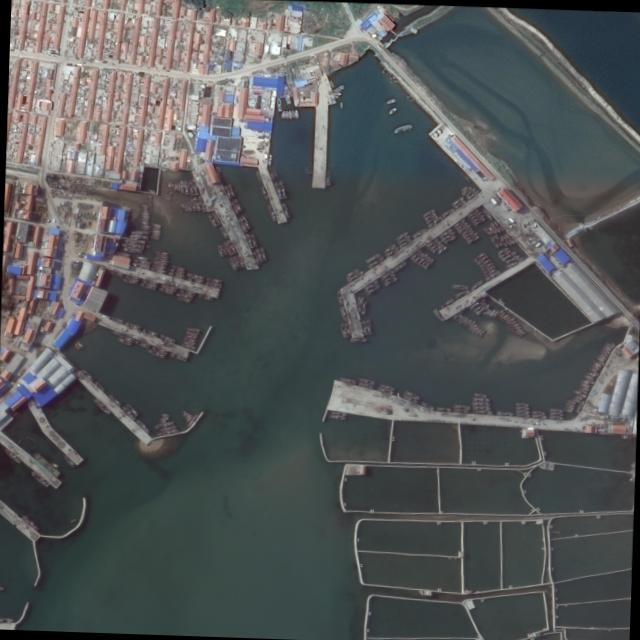ship: (30, 449, 61, 476), (29, 468, 50, 486), (92, 396, 111, 414), (21, 513, 40, 529), (3, 447, 22, 462), (505, 255, 525, 268), (134, 417, 151, 432), (366, 254, 384, 267), (121, 404, 136, 419), (426, 214, 443, 227), (393, 122, 413, 133), (124, 401, 139, 415), (468, 297, 485, 309), (347, 269, 364, 281), (344, 266, 361, 278), (266, 202, 277, 220), (62, 452, 76, 466), (384, 244, 399, 257), (475, 302, 490, 315), (501, 249, 517, 261), (147, 347, 166, 357), (196, 194, 207, 211), (484, 269, 501, 280), (432, 307, 445, 321), (403, 389, 421, 399), (412, 226, 427, 238), (440, 229, 455, 241), (365, 282, 380, 294), (392, 259, 407, 271), (273, 180, 283, 198), (505, 252, 520, 264), (156, 427, 178, 435), (365, 252, 381, 263), (169, 350, 186, 360), (158, 332, 175, 342), (81, 367, 94, 380), (185, 413, 198, 426), (108, 393, 122, 405), (206, 212, 218, 226), (472, 300, 486, 312), (363, 279, 378, 290), (150, 344, 168, 353), (190, 176, 199, 194), (278, 179, 287, 197), (121, 241, 144, 248), (244, 231, 254, 247), (154, 420, 174, 428), (237, 215, 247, 231), (280, 201, 290, 217), (481, 207, 494, 219), (472, 250, 485, 262), (227, 255, 238, 269), (226, 238, 237, 252), (223, 240, 234, 254), (457, 222, 471, 233), (452, 216, 466, 227), (438, 226, 452, 237), (397, 233, 411, 244), (425, 236, 439, 247), (440, 297, 454, 308), (380, 268, 394, 279), (408, 248, 422, 259), (210, 210, 221, 224), (160, 282, 177, 291), (133, 338, 150, 347), (124, 320, 141, 329), (185, 271, 204, 279), (420, 400, 435, 410), (192, 195, 202, 210), (259, 184, 269, 199), (339, 321, 348, 337), (141, 327, 157, 336), (357, 376, 375, 384), (402, 393, 418, 402), (454, 288, 470, 297), (416, 252, 428, 264), (504, 231, 516, 243), (451, 195, 464, 206), (466, 188, 479, 199), (431, 242, 444, 253), (470, 278, 483, 289), (218, 224, 229, 237), (475, 253, 488, 264), (235, 252, 245, 266), (441, 206, 455, 216), (394, 230, 408, 240), (398, 237, 412, 247), (384, 275, 398, 285), (132, 261, 149, 269), (117, 336, 132, 345), (119, 332, 134, 341), (339, 305, 348, 320), (335, 289, 344, 304), (461, 184, 473, 195), (492, 219, 504, 230), (489, 221, 501, 232), (489, 235, 500, 247), (501, 233, 512, 245), (575, 399, 585, 412), (455, 220, 468, 230), (425, 213, 438, 223), (422, 207, 435, 217), (428, 240, 441, 250), (383, 272, 396, 282), (383, 242, 396, 252), (233, 197, 243, 210), (480, 260, 493, 270), (498, 248, 511, 258), (467, 233, 480, 243), (168, 270, 184, 278), (134, 257, 150, 265), (357, 380, 373, 388), (377, 386, 393, 394), (255, 247, 264, 261), (338, 376, 356, 383), (471, 212, 485, 221), (483, 267, 497, 276), (223, 184, 232, 198), (226, 182, 235, 196), (423, 257, 434, 268), (124, 237, 144, 243), (150, 265, 165, 273), (153, 255, 168, 263), (464, 186, 476, 196), (454, 198, 466, 208), (444, 233, 456, 243), (412, 251, 424, 261), (493, 233, 503, 245), (465, 230, 477, 240), (204, 279, 221, 286), (176, 291, 193, 298), (139, 281, 156, 288), (232, 254, 241, 267), (466, 207, 479, 216), (469, 209, 482, 218), (473, 216, 486, 225), (188, 197, 197, 210), (482, 264, 495, 273), (241, 214, 250, 227), (230, 200, 239, 213), (123, 246, 142, 252), (188, 276, 204, 283), (252, 249, 260, 263), (249, 232, 257, 246), (179, 287, 195, 294), (344, 321, 352, 335), (142, 277, 158, 284), (365, 317, 372, 333), (94, 380, 105, 390), (420, 255, 430, 266), (424, 211, 436, 220), (497, 245, 509, 254), (478, 257, 490, 266), (462, 229, 474, 238), (461, 226, 473, 235), (159, 286, 174, 293), (123, 276, 138, 283), (180, 342, 195, 349), (185, 325, 200, 332), (379, 382, 394, 389), (361, 318, 368, 333), (187, 179, 194, 194), (178, 178, 185, 193), (259, 246, 267, 259), (111, 315, 124, 323), (328, 413, 345, 419), (330, 409, 347, 415), (159, 424, 176, 430), (453, 403, 470, 409), (498, 235, 508, 245), (219, 243, 228, 254), (436, 245, 447, 254), (198, 292, 212, 299), (116, 250, 130, 257), (109, 269, 123, 276), (151, 262, 165, 269), (276, 96, 283, 110), (206, 276, 222, 282), (216, 243, 224, 255), (435, 405, 451, 411), (254, 169, 262, 181), (130, 229, 149, 234), (473, 408, 492, 413), (153, 259, 166, 266), (129, 233, 147, 238), (177, 296, 192, 302), (472, 404, 490, 409), (472, 400, 490, 405), (472, 396, 490, 401), (183, 179, 189, 194), (466, 319, 476, 328), (357, 295, 363, 310), (496, 410, 513, 415), (170, 267, 184, 273), (172, 263, 184, 270), (125, 273, 139, 279), (184, 329, 198, 335), (361, 300, 367, 314), (548, 414, 564, 419), (482, 226, 492, 234), (452, 283, 468, 288), (135, 254, 148, 260), (156, 253, 169, 259), (155, 249, 168, 255), (182, 339, 195, 345), (183, 336, 196, 342), (184, 333, 197, 339), (185, 199, 192, 210), (453, 407, 468, 412), (471, 325, 480, 333), (458, 314, 466, 323), (332, 87, 341, 95), (487, 225, 497, 232), (325, 170, 330, 184), (564, 400, 575, 406), (267, 152, 272, 165), (0, 617, 13, 622), (350, 337, 366, 341), (469, 322, 477, 330), (464, 317, 472, 325), (474, 326, 482, 334), (488, 308, 496, 316), (504, 314, 512, 322), (501, 312, 509, 320), (496, 308, 504, 316), (590, 362, 599, 369), (388, 106, 397, 113), (454, 313, 463, 320), (511, 321, 520, 328), (506, 316, 515, 323), (585, 377, 595, 383), (595, 358, 605, 364), (531, 413, 546, 417), (386, 97, 396, 103), (603, 343, 611, 350), (185, 414, 193, 421), (515, 405, 529, 409), (473, 392, 487, 396), (516, 412, 530, 416), (549, 411, 563, 415), (549, 407, 563, 411), (460, 184, 468, 191), (461, 316, 468, 324), (478, 328, 485, 336), (515, 327, 523, 334), (518, 329, 526, 336), (492, 308, 499, 316), (578, 387, 587, 393), (592, 360, 601, 366), (512, 325, 521, 331), (563, 407, 573, 412), (499, 311, 506, 318), (482, 307, 489, 314), (602, 347, 610, 353), (600, 350, 608, 356), (589, 365, 597, 371), (51, 461, 59, 467), (328, 78, 334, 86), (269, 170, 275, 178), (140, 219, 149, 224), (574, 394, 583, 399), (160, 411, 169, 416), (565, 404, 574, 409), (111, 329, 120, 334), (606, 342, 613, 348), (599, 353, 606, 359), (515, 409, 529, 412), (515, 402, 529, 405), (76, 339, 82, 346), (74, 341, 80, 348), (485, 308, 492, 314), (585, 374, 593, 379), (153, 222, 161, 227), (141, 216, 149, 221), (567, 398, 575, 403), (142, 213, 150, 218), (532, 410, 545, 413), (580, 382, 589, 386), (580, 379, 589, 383), (151, 228, 160, 232), (150, 234, 159, 238), (151, 231, 160, 235), (587, 371, 594, 376), (592, 370, 599, 375), (597, 355, 604, 360), (182, 411, 189, 416), (510, 319, 517, 324), (573, 389, 581, 393), (152, 225, 160, 229), (142, 223, 150, 227), (294, 109, 298, 117), (141, 211, 149, 215), (291, 109, 295, 117), (281, 109, 285, 117), (185, 412, 190, 418), (70, 517, 76, 522), (577, 393, 586, 396), (162, 415, 168, 419), (176, 182, 179, 190), (288, 109, 291, 117), (285, 109, 288, 117), (159, 417, 166, 420), (611, 341, 615, 346), (142, 209, 148, 212), (340, 101, 343, 107), (141, 226, 146, 229), (582, 387, 589, 389), (0, 585, 3, 589)
